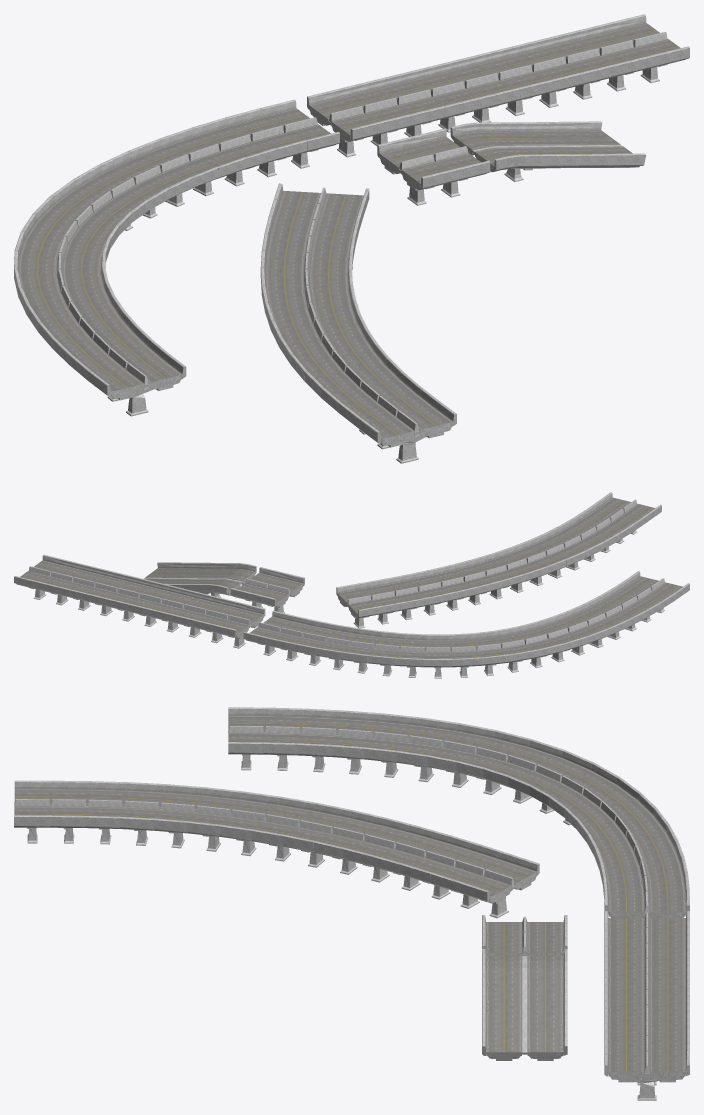
The model's file is bridge.glb.
The picture shows the model from 3 angles, top to bottom: view 1: azimuth 30°, elevation 25°; view 2: azimuth 150°, elevation 25°; view 3: azimuth 270°, elevation 25°; orthographic projection. The views are drawn at different scales.
Visible parts, largest first — view 1: Plane_2, Plane003_2, Plane_1, Plane001_1, Plane001_2, Plane003_1, Plane004_1, Plane004_2, Plane002_1, Plane002_2; view 2: Plane_1, Plane_2, Plane003_1, Plane003_2, Plane001_1, Plane001_2, Plane004_2, Plane004_1, Plane002_1, Plane002_2; view 3: Plane003_1, Plane_2, Plane_1, Plane003_2, Plane001_2, Plane004_2, Plane001_1, Plane002_2, Plane004_1, Plane002_1.
Boxes of the visible parts, left/top/right/bottom form: Plane_2: left=18, top=108, right=330, bottom=391; Plane003_2: left=265, top=190, right=452, bottom=438; Plane_1: left=14, top=99, right=339, bottom=416; Plane001_1: left=307, top=14, right=689, bottom=157; Plane001_2: left=309, top=23, right=680, bottom=135; Plane003_1: left=260, top=183, right=456, bottom=463; Plane004_1: left=450, top=121, right=646, bottom=181; Plane004_2: left=453, top=130, right=632, bottom=165; Plane002_1: left=377, top=128, right=490, bottom=205; Plane002_2: left=379, top=137, right=480, bottom=183; Plane_1: left=243, top=571, right=689, bottom=678; Plane_2: left=250, top=576, right=682, bottom=658; Plane003_1: left=336, top=492, right=661, bottom=628; Plane003_2: left=338, top=497, right=654, bottom=613; Plane001_1: left=14, top=554, right=265, bottom=648; Plane001_2: left=20, top=560, right=263, bottom=633; Plane004_2: left=143, top=568, right=254, bottom=591; Plane004_1: left=144, top=562, right=256, bottom=597; Plane002_1: left=230, top=567, right=304, bottom=613; Plane002_2: left=237, top=572, right=302, bottom=602; Plane003_1: left=14, top=780, right=539, bottom=918; Plane_2: left=228, top=715, right=685, bottom=912; Plane_1: left=228, top=707, right=689, bottom=918; Plane003_2: left=14, top=789, right=536, bottom=897; Plane001_2: left=608, top=918, right=685, bottom=1072; Plane004_2: left=486, top=955, right=563, bottom=1052; Plane001_1: left=604, top=911, right=689, bottom=1100; Plane002_2: left=486, top=922, right=563, bottom=952; Plane004_1: left=482, top=949, right=567, bottom=1060; Plane002_1: left=482, top=915, right=567, bottom=955.
Bounding box in the file's own units: 46.44 × 2.86 × 37.03.
2 materials, 2 textured.
